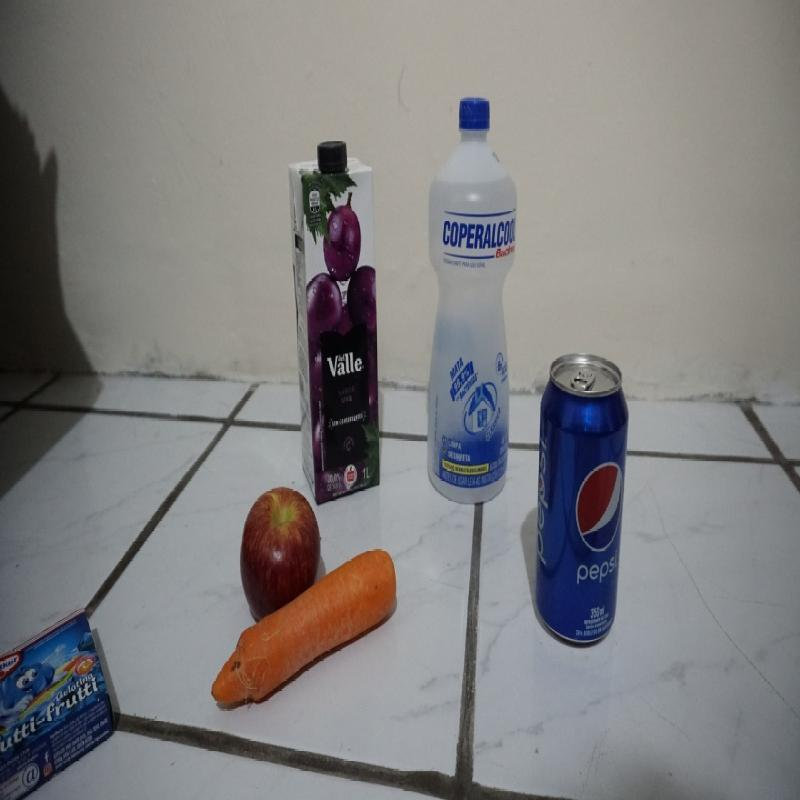Alcohol Bottle: (425, 93, 519, 510)
Carrot: (199, 548, 401, 712)
Gelatine: (0, 602, 116, 798)
Soda can: (535, 350, 630, 649)
